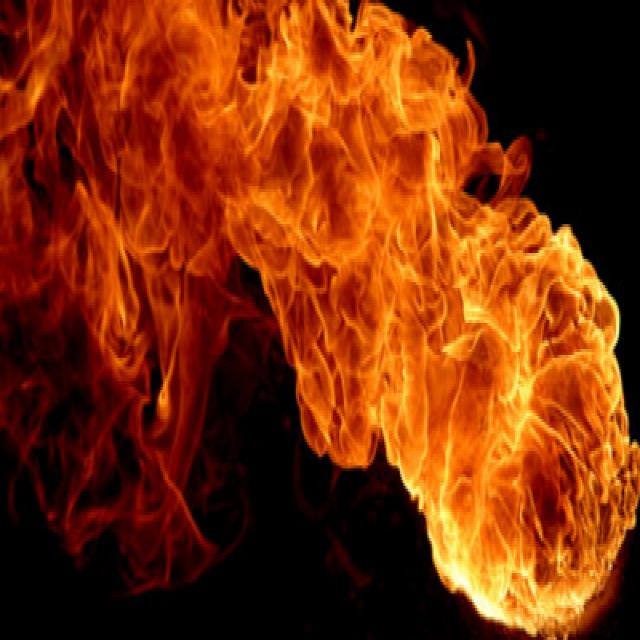fire: (76, 0, 640, 634)
